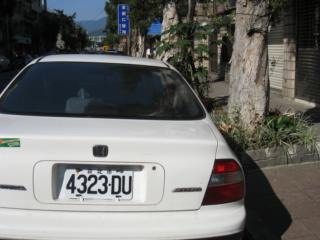plate: (63, 164, 136, 202)
